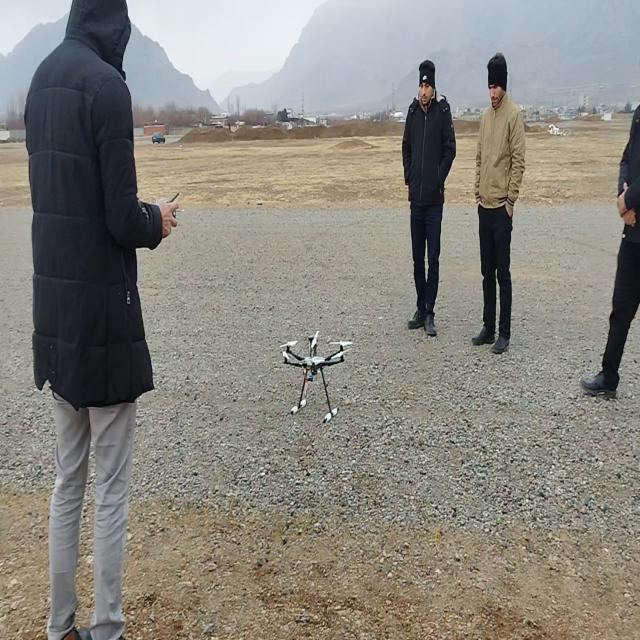drone: (279, 330, 354, 424)
